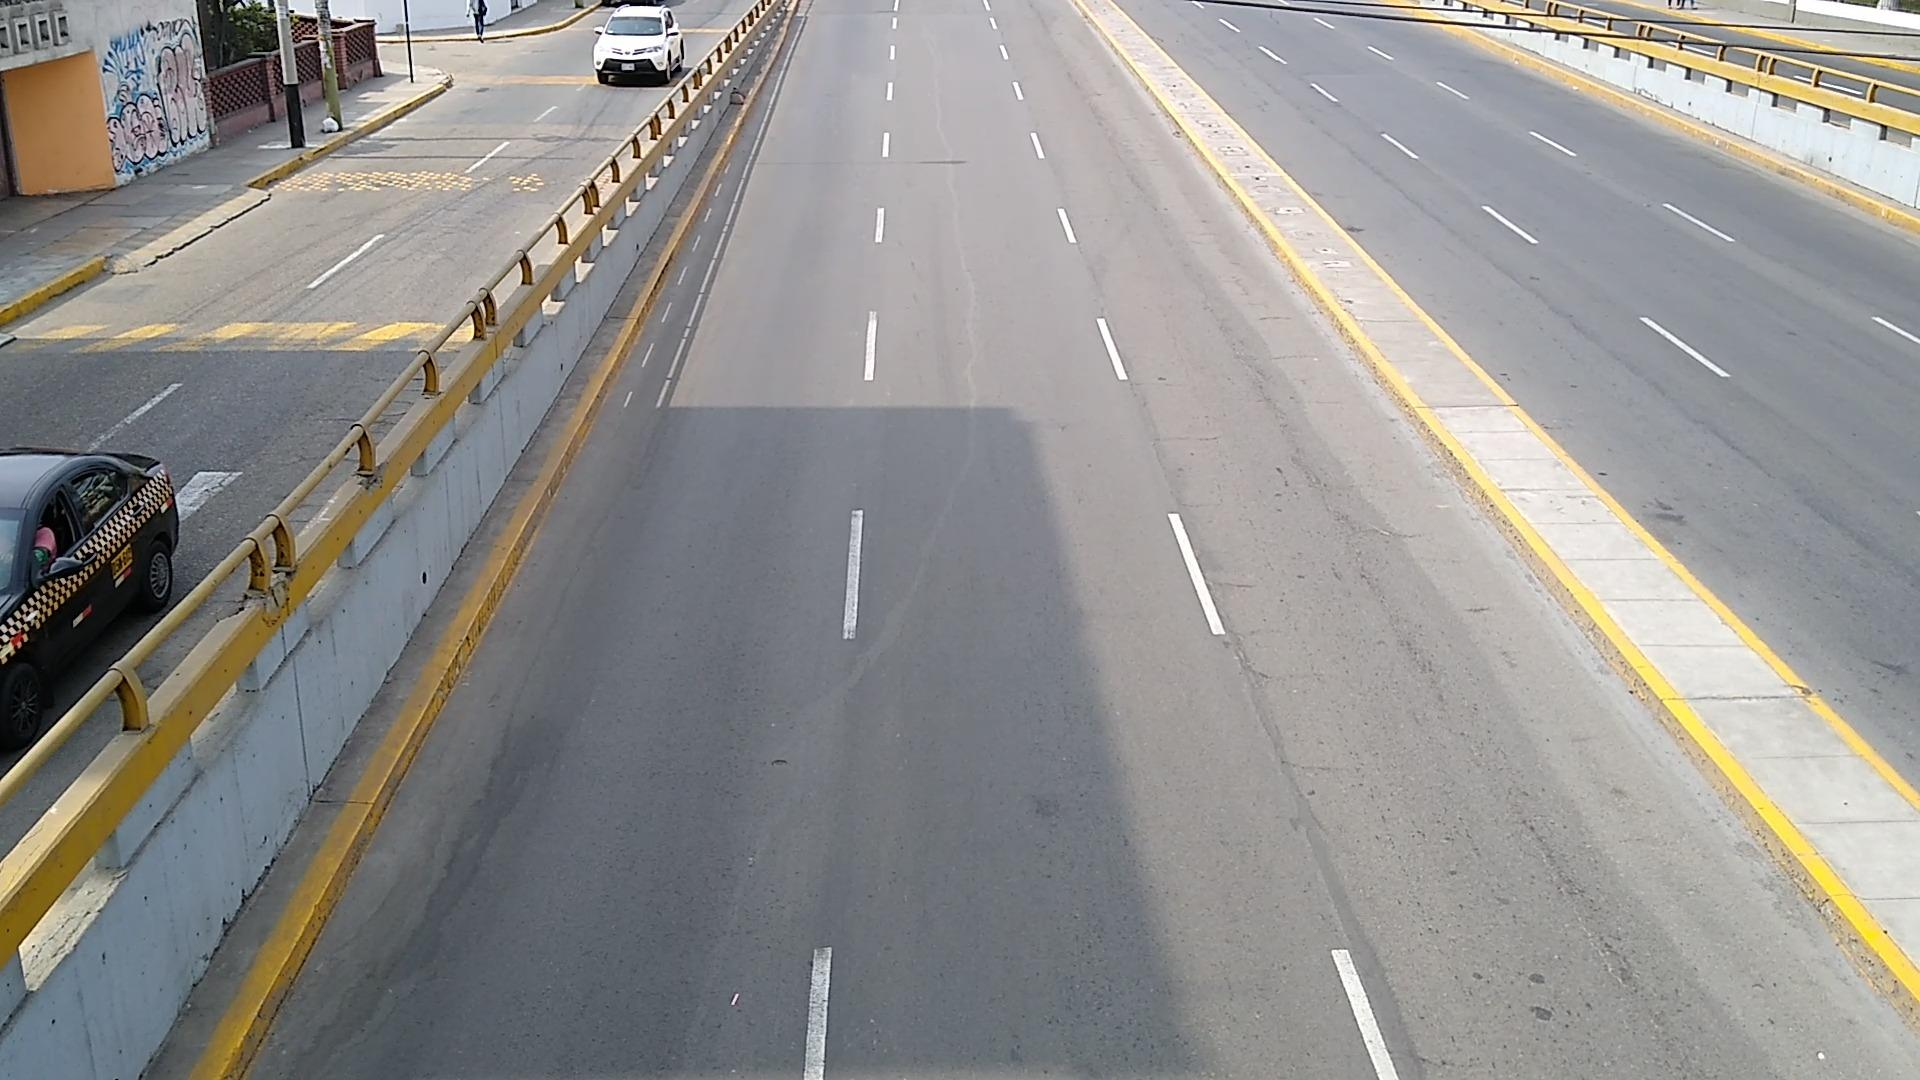car: (0, 446, 180, 748), (592, 4, 686, 82)
